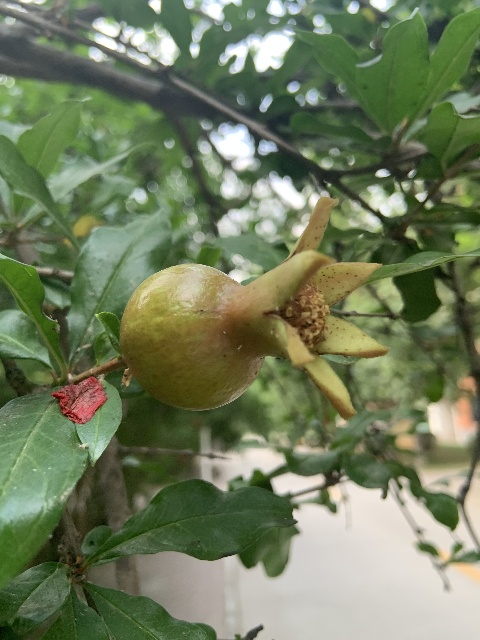early-fruit: (121, 194, 389, 419)
